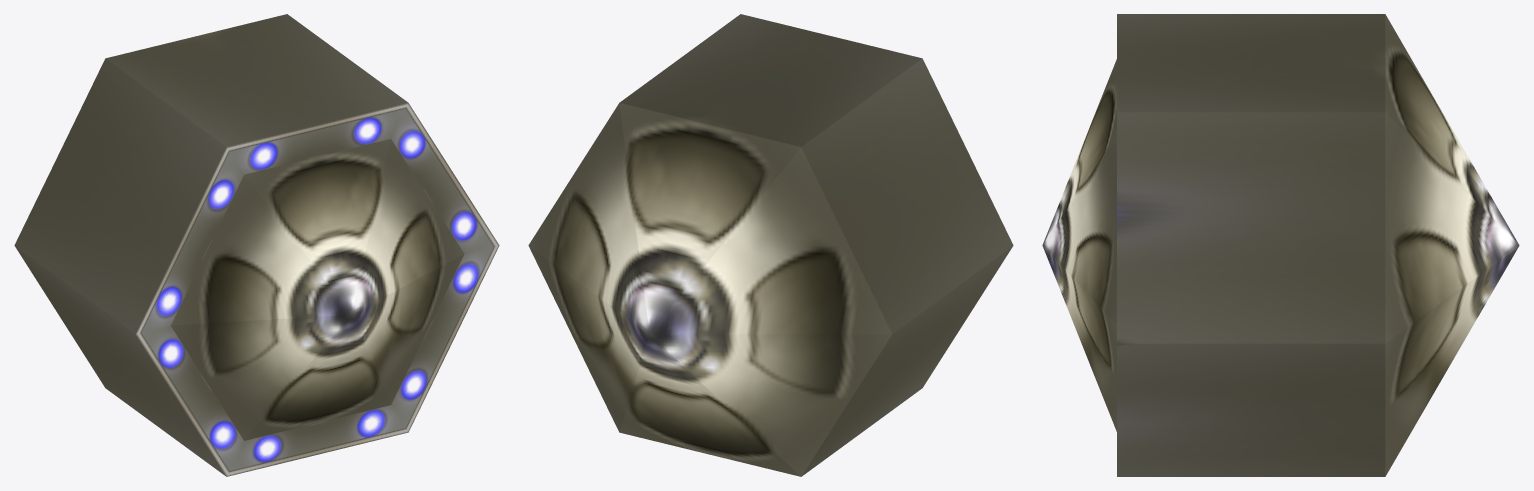
The picture shows the model from 3 angles, left to right: view 1: azimuth 30°, elevation 25°; view 2: azimuth 150°, elevation 25°; view 3: azimuth 270°, elevation 25°; orthographic projection. The views are drawn at different scales.
Visible parts, largest first — view 1: Sphere01; view 2: Sphere01; view 3: Sphere01.
Boxes of the visible parts, <box> form: Sphere01: <box>14,14,499,476</box>; Sphere01: <box>528,14,1013,476</box>; Sphere01: <box>1042,14,1519,476</box>.
Size of the model in its own units: 587 by 509 by 603.
Materials: 1 (1 with a texture image).
